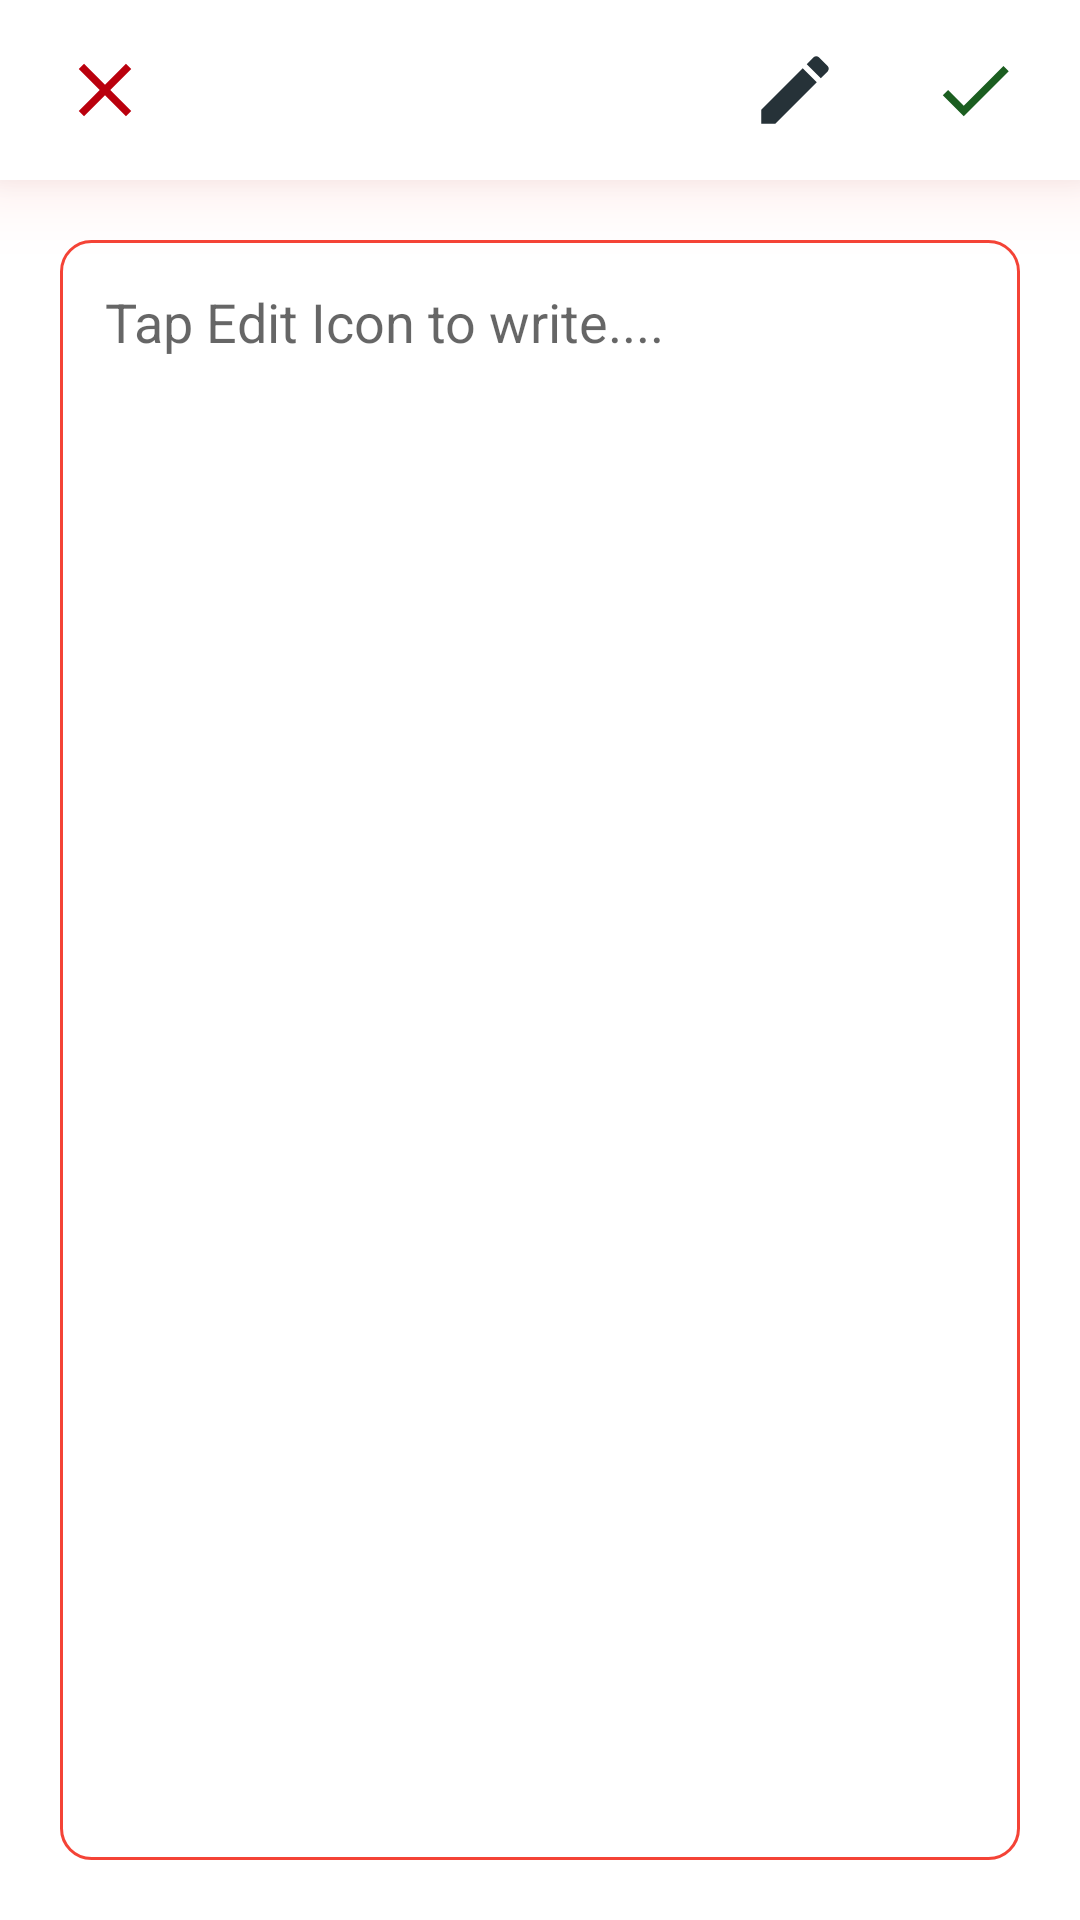

Named icons in this screenshot (1080px x 1920px) and their centers, [x,y]:
check: [976,91]
clear: [105,90]
